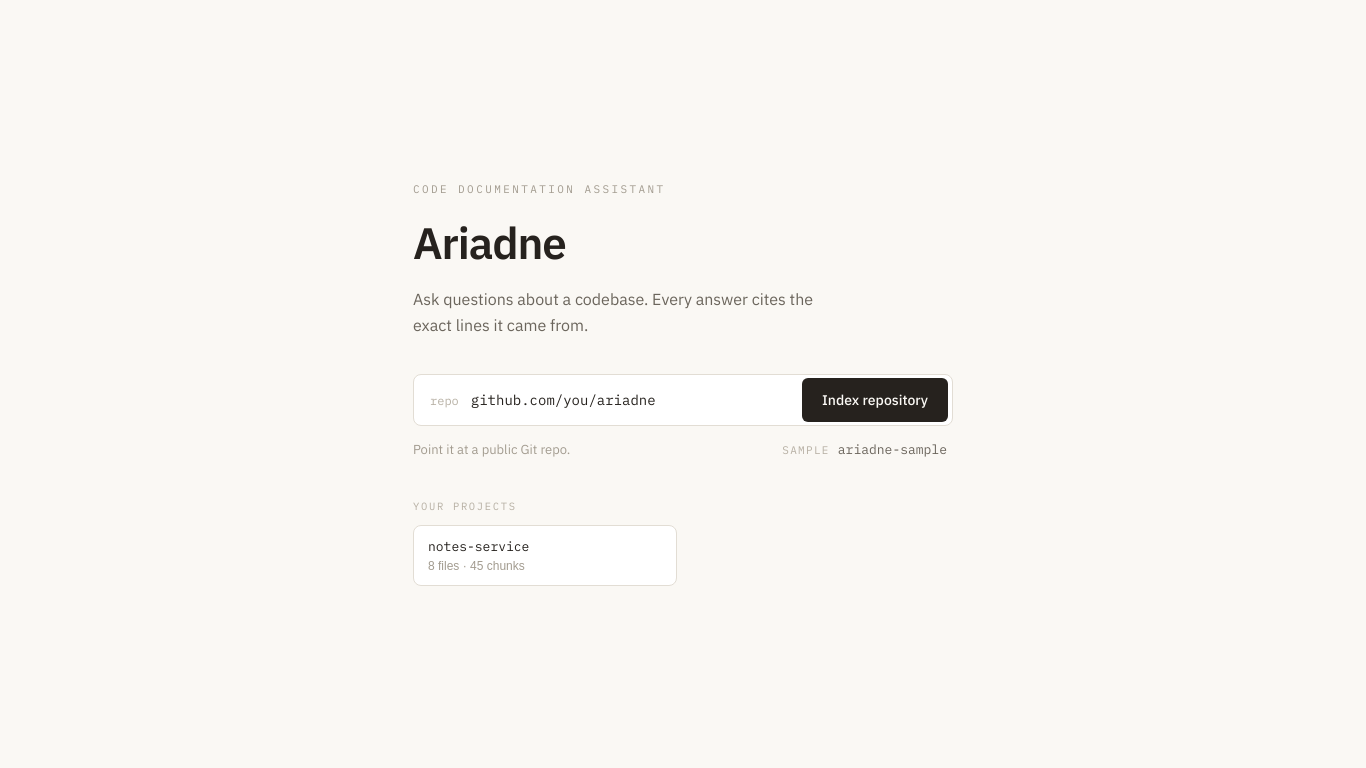
Scenario: workspace render › shows a project dashboard and opens a project on click
Check: the text "Your projects" is shown, box [413, 499, 517, 513]
Click the button "notes-service 8 files · 45 chunks". click: (479,547)
box: [413, 525, 677, 586]
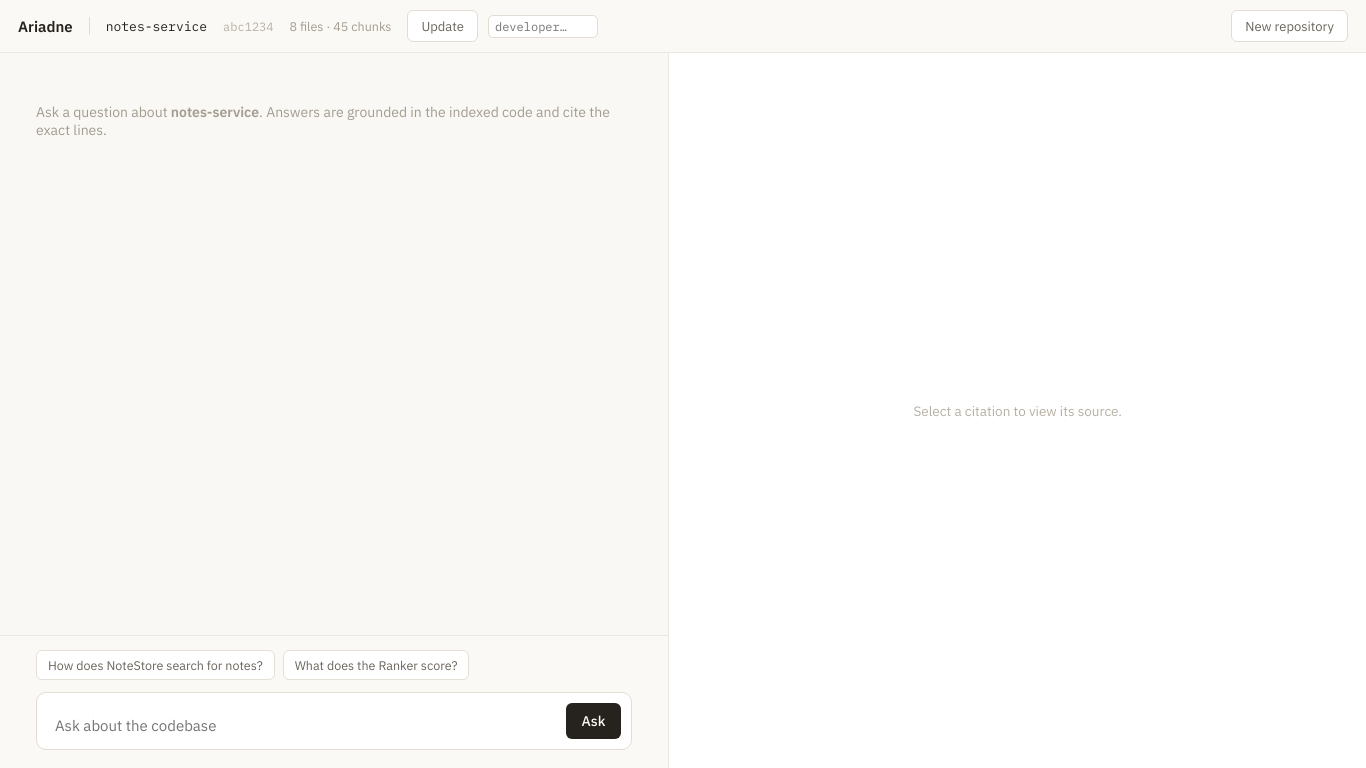
Check: the text box with placeholder "Ask about the codebase" is shown, box [53, 712, 556, 739]
